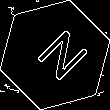N_SW: (23, 23, 87, 87)
